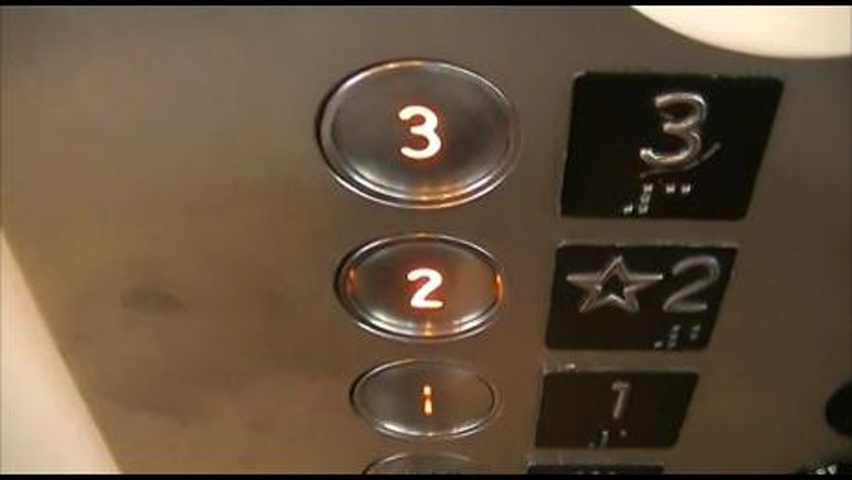1: (536, 365, 699, 454), (350, 356, 502, 445)
2: (335, 232, 511, 346)
3: (562, 67, 783, 222), (314, 57, 522, 211)
s2: (543, 239, 735, 352)
